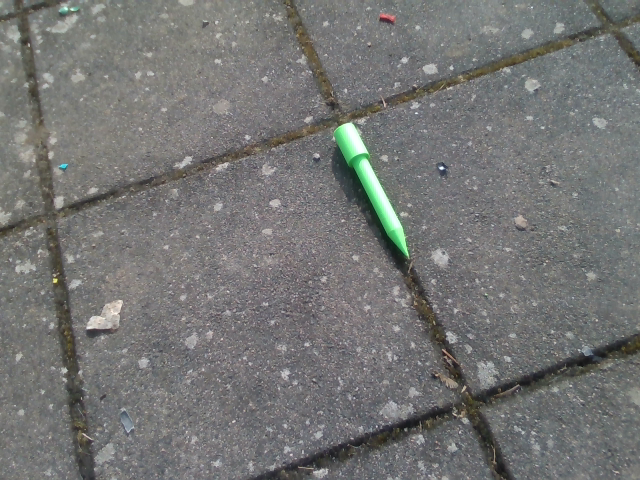Probe: (331, 118, 417, 269)
